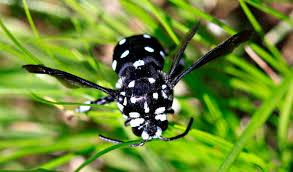Thyreus: (36, 24, 246, 144)
